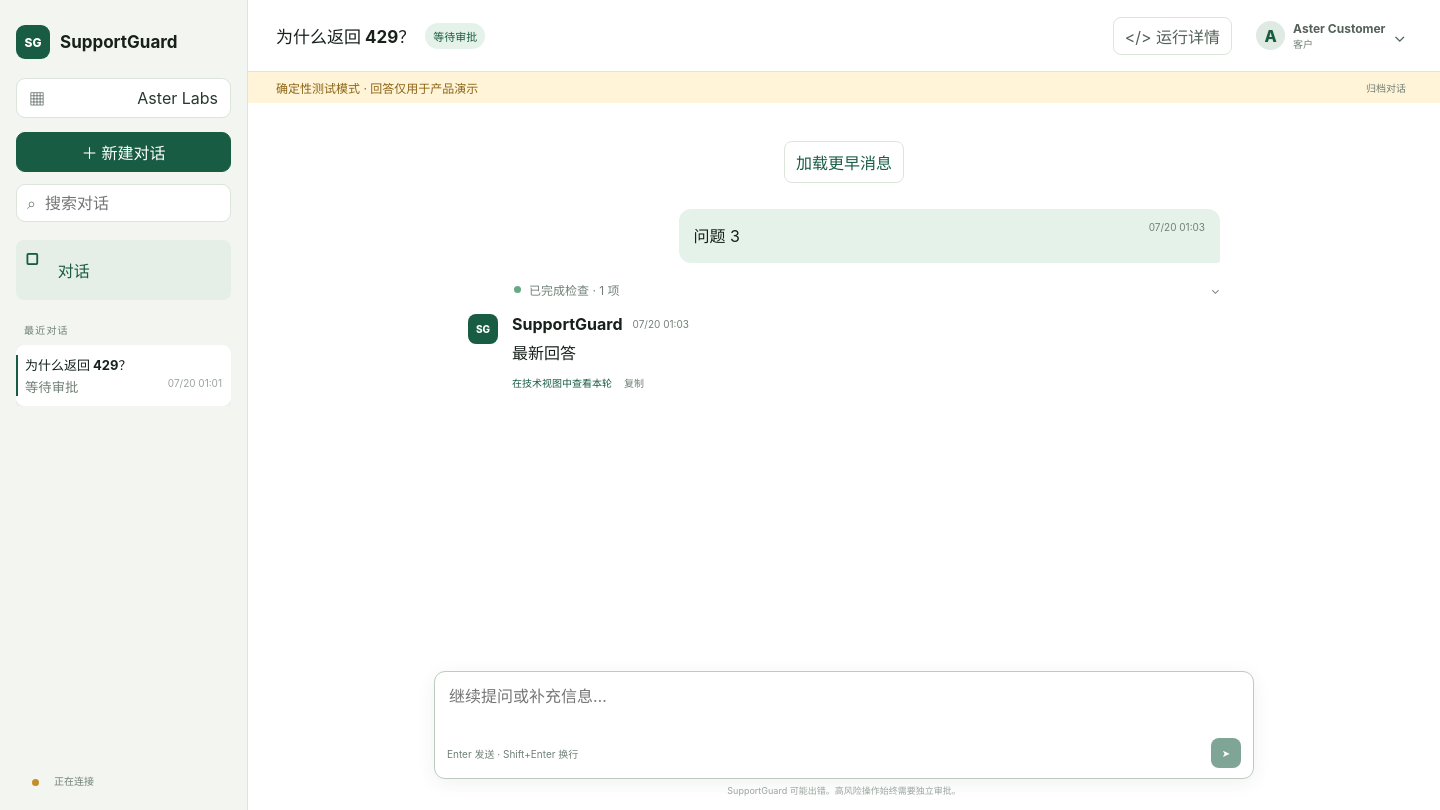
Test: Conversation-first product experience › keeps loaded historical turns when the latest projection refreshes
The width and height of the screenshot is (1440, 810).
Expected: the text "最新回答" is shown, top-left (512, 343), bottom-right (576, 363)
Click the button "加载更早消息".
click(844, 162)  # box top-left (784, 141), bottom-right (904, 183)
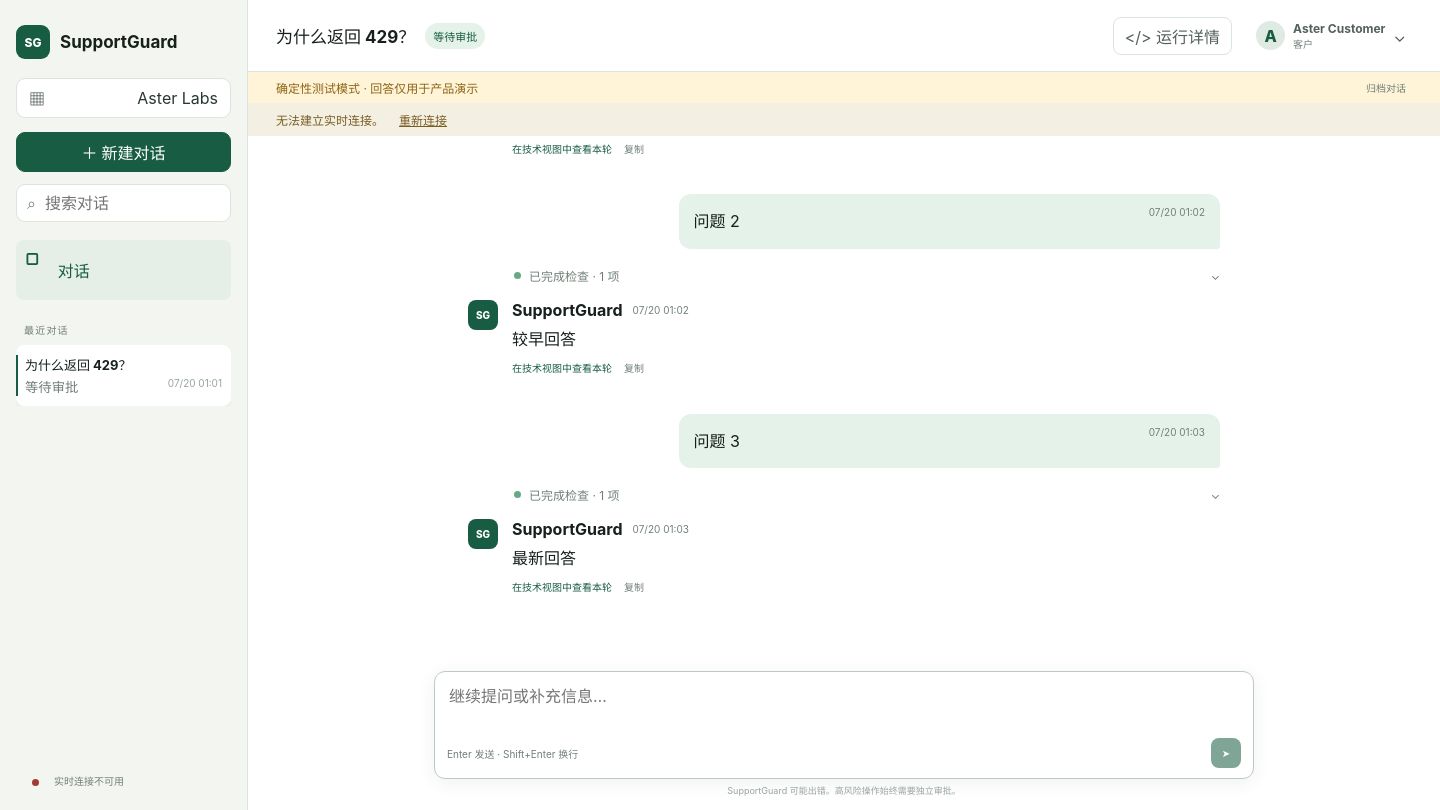
Now the text "较早回答" is shown, box top-left (512, 329), bottom-right (576, 349)
Type "触发最新页刷新" into the text box labelled "继续提问".
click(844, 708); type("触发最新页刷新")  # box top-left (447, 682), bottom-right (1241, 734)
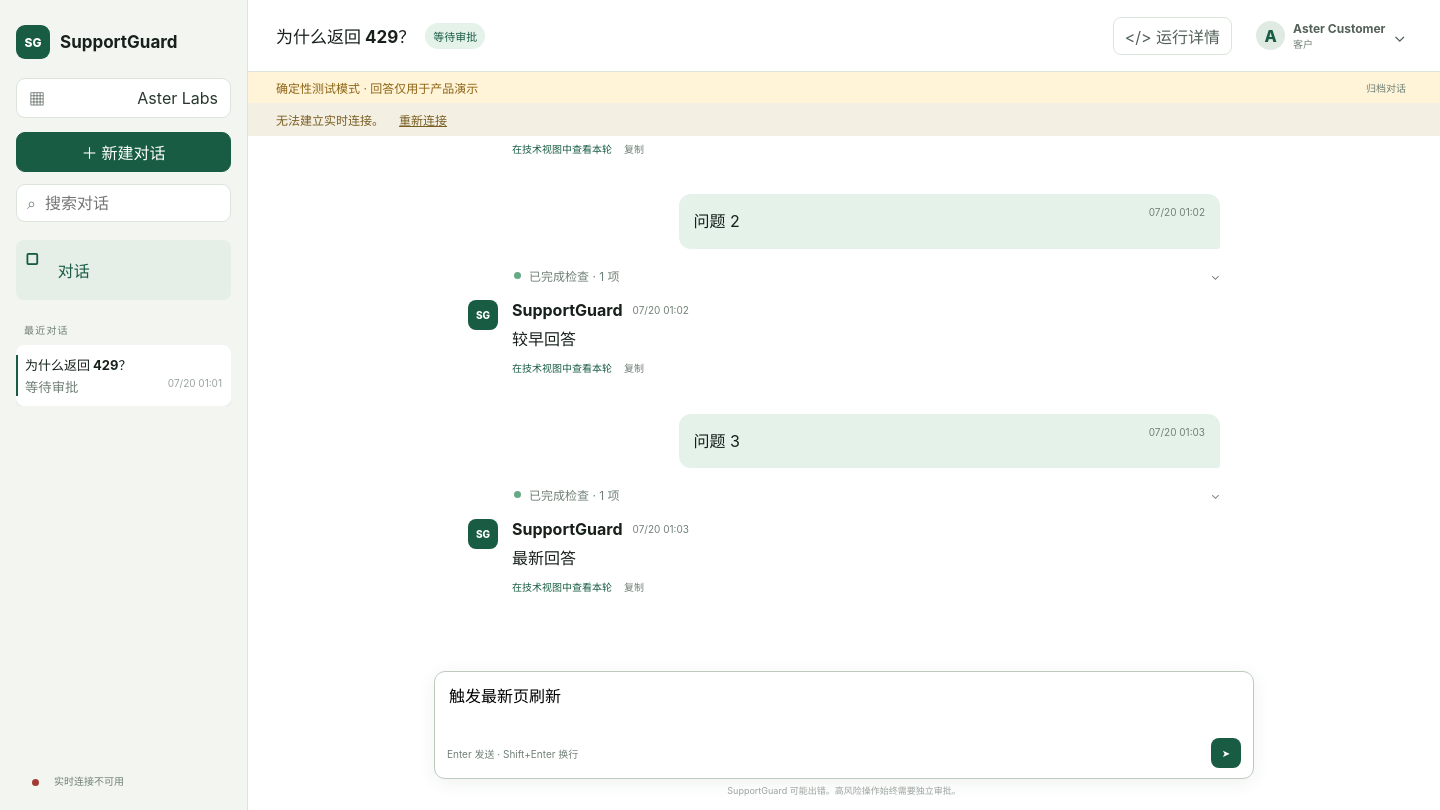
Click the button named "发送消息".
click(1226, 753)  # box top-left (1211, 738), bottom-right (1241, 768)
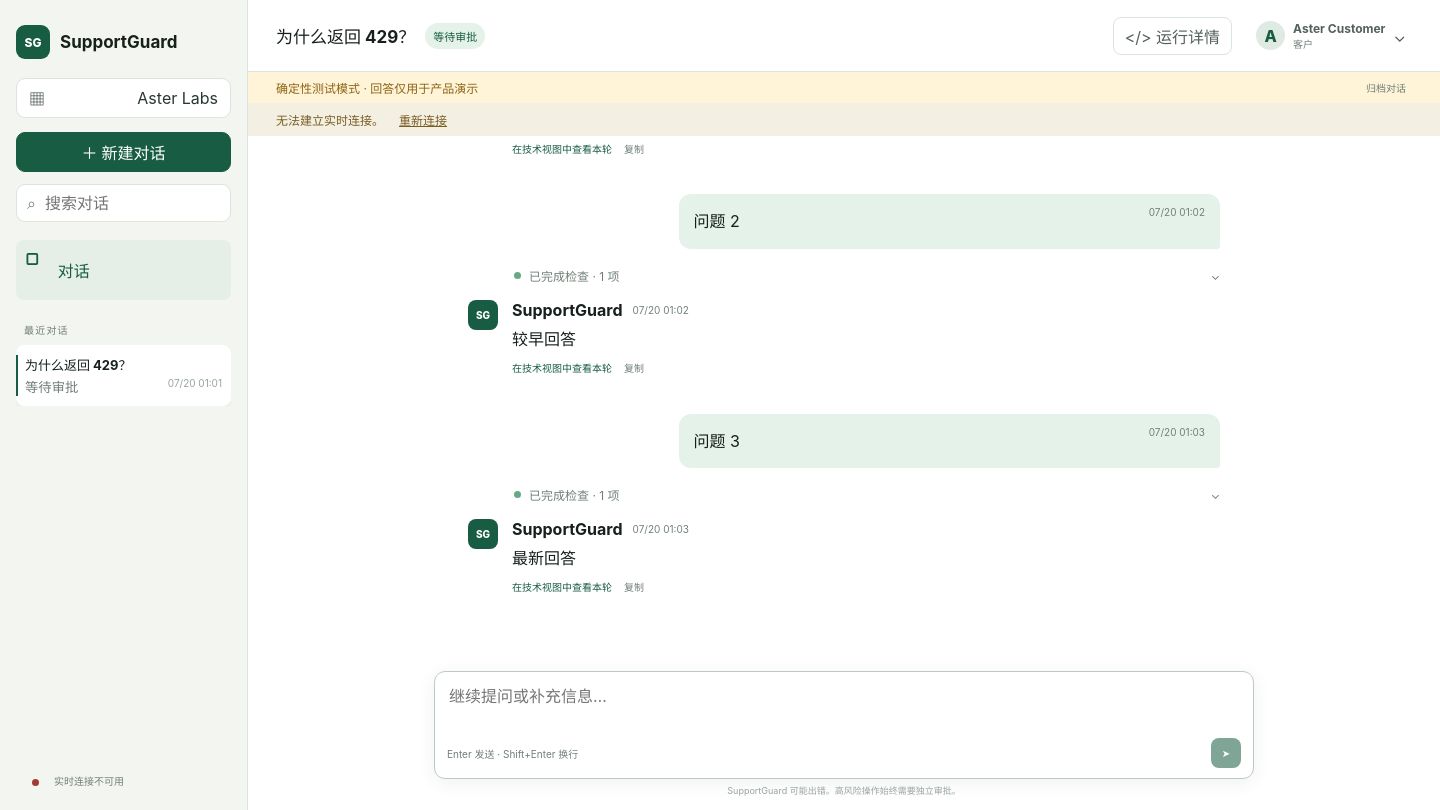
Expected: the text "最新回答" is shown, top-left (512, 548), bottom-right (576, 568)
Now the text "较早回答" is shown, box top-left (512, 329), bottom-right (576, 349)
Now the text box labelled "继续提问" is empty, box top-left (447, 682), bottom-right (1241, 734)
